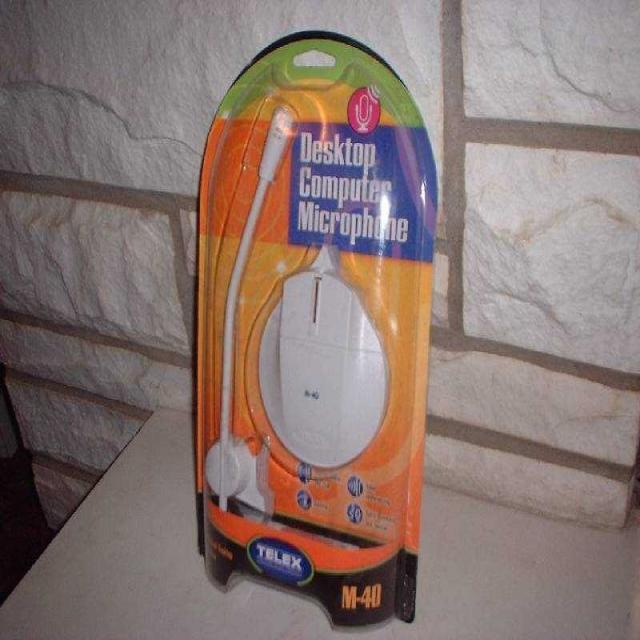microphone: (248, 94, 299, 206)
